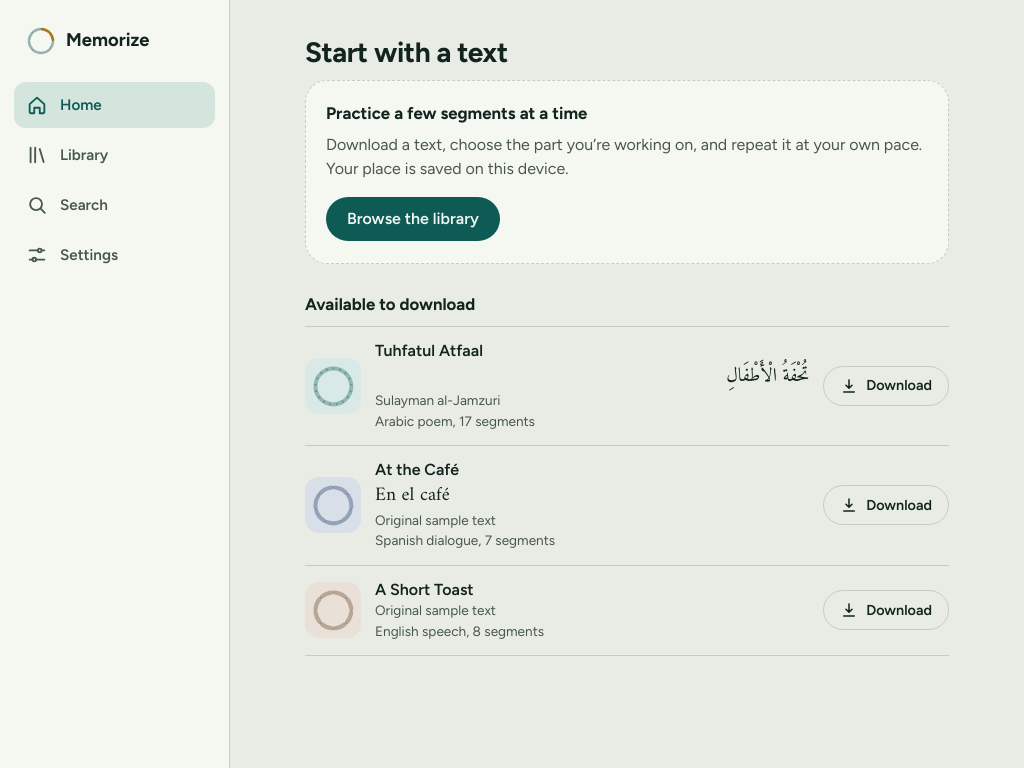
Test: app shell › navigates between tabs with the hash, updating the title and the current tab
Click the link "Library". click: coordinates (67, 155)
box: x1=26 y1=144 x2=108 y2=166
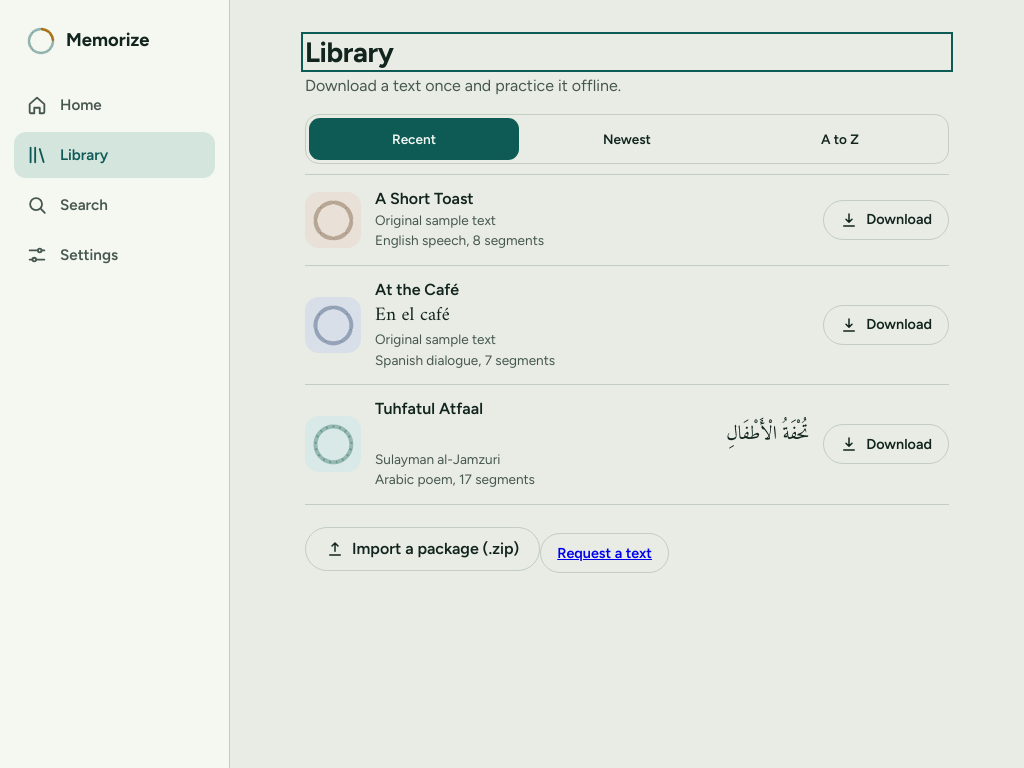
Check: the heading "Library" is shown, box x1=305 y1=35 x2=393 y2=69
